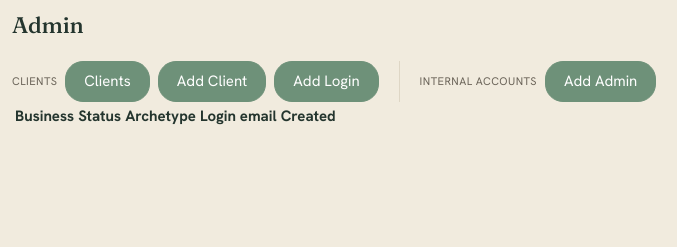
Scenario: AdminProvision › does not render a client picker on the Add Admin tab
Step 1. Click the button "Add Admin" → (601, 82), box [545,61,656,102]
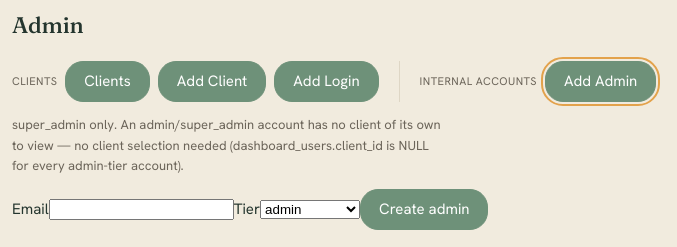
Check: the field labelled "Email" is shown, box [49,199,234,220]
Check: the dropdown labelled "Tier" is shown, box [260,200,360,219]
